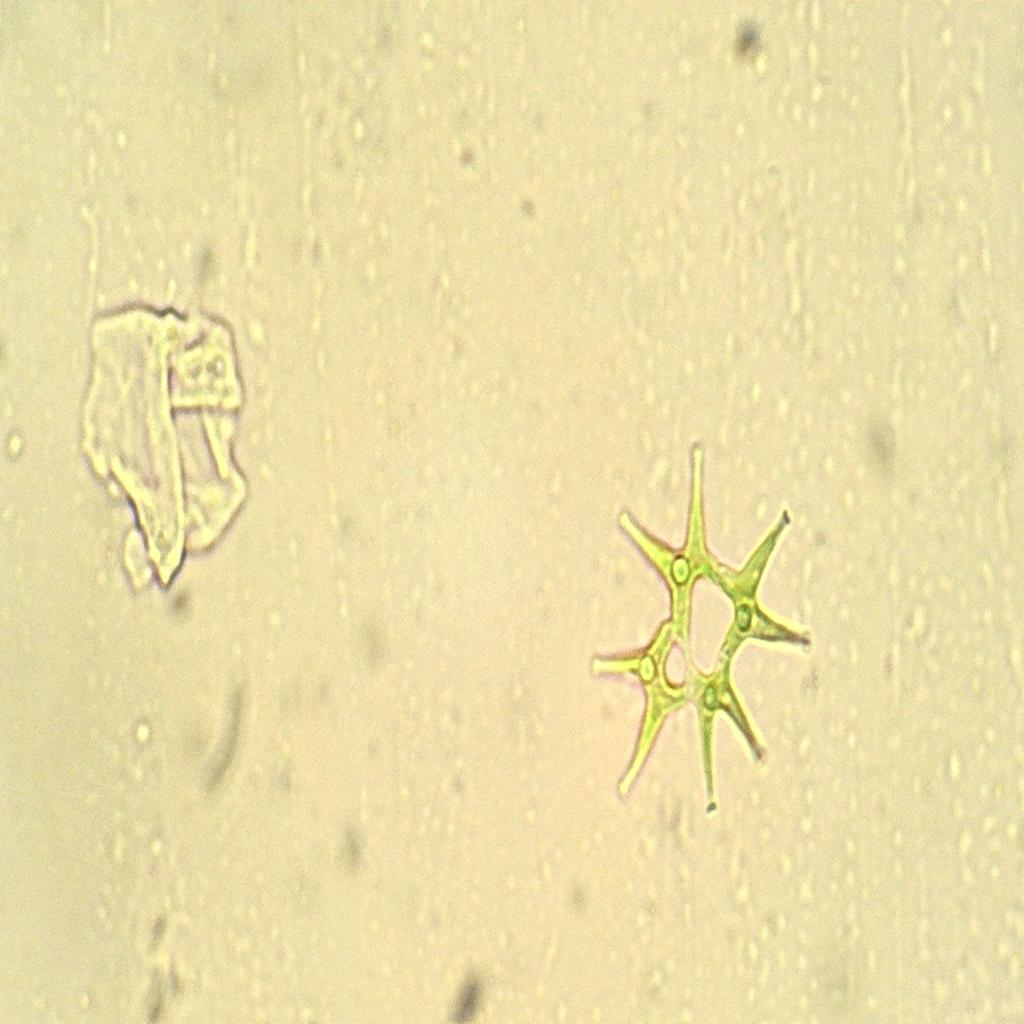Pediastrum_75FO: (576, 423, 828, 836)
